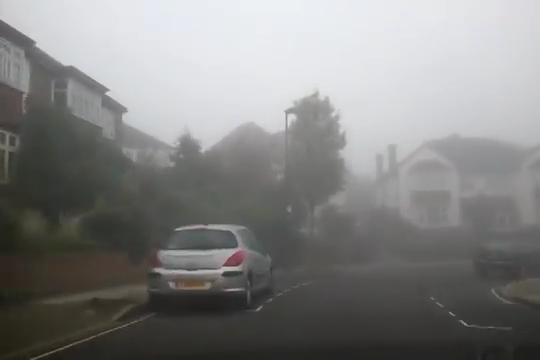car: (144, 222, 276, 310), (472, 225, 540, 281)
